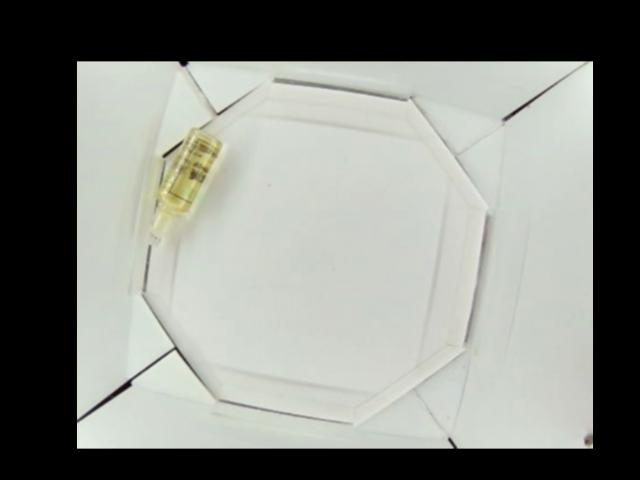Bottle: (147, 129, 223, 246)
